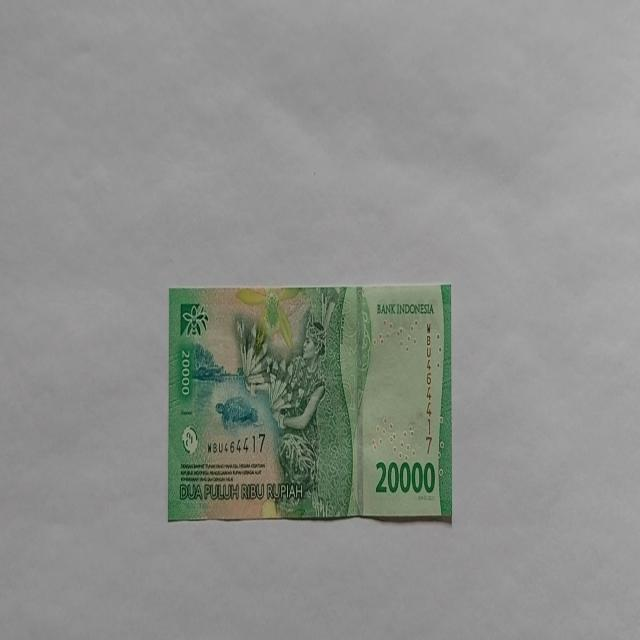dua puluh ribu rupiah: (168, 282, 452, 524)
